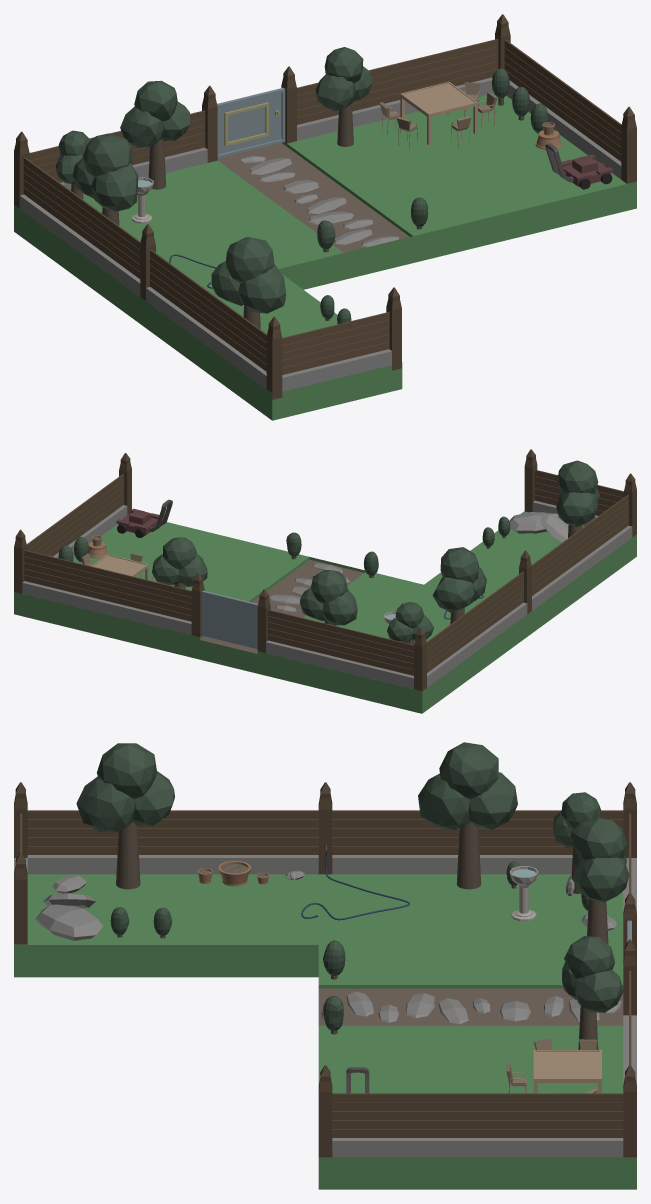
The model's file is Jardin.fbx.
The picture shows the model from 3 angles, top to bottom: view 1: azimuth 30°, elevation 25°; view 2: azimuth 150°, elevation 25°; view 3: azimuth 270°, elevation 25°; orthographic projection. The views are drawn at different scales.
Visible parts, largest first — view 1: Terreno, Tablas1, Tablas4, Tablas6, Tablas3, Arbol5, Tablas5, Arbol3, Arbol2, Puerta, Arbol4, BordeSuelo3 (+17 smaller); view 2: Terreno, Tablas1, Tablas2, Tablas4, Tablas6, Tablas3, Puerta, Arbol2, Arbol5, BordeSuelo1, Arbol3, BordeSuelo2 (+18 smaller); view 3: Terreno, Tablas3, Tablas6, Tablas4, Arbol2, Arbol5, BordeSuelo6, BordeSuelo4, Arbol3, Arbol4, BordeSuelo3, Mesa (+14 smaller).
Boxes of the visible parts, x1=… form: Terreno: x1=14, y1=93, x2=636, y2=420; Tablas1: x1=297, y1=39, x2=498, y2=124; Tablas4: x1=23, y1=157, x2=140, y2=278; Tablas6: x1=150, y1=250, x2=266, y2=371; Tablas3: x1=504, y1=40, x2=621, y2=161; Arbol5: x1=211, y1=237, x2=285, y2=329; Tablas5: x1=282, y1=312, x2=389, y2=374; Arbol3: x1=120, y1=80, x2=189, y2=189; Arbol2: x1=72, y1=133, x2=138, y2=225; Puerta: x1=217, y1=87, x2=285, y2=158; Arbol4: x1=315, y1=47, x2=372, y2=146; BordeSuelo3: x1=19, y1=194, x2=140, y2=296; Terreno: x1=14, y1=511, x2=636, y2=713; Tablas1: x1=24, y1=550, x2=191, y2=621; Tablas2: x1=267, y1=609, x2=413, y2=675; Tablas4: x1=426, y1=571, x2=523, y2=672; Tablas6: x1=531, y1=495, x2=628, y2=595; Tablas3: x1=26, y1=474, x2=123, y2=556; Puerta: x1=201, y1=590, x2=257, y2=648; Arbol2: x1=432, y1=547, x2=486, y2=624; Arbol5: x1=556, y1=460, x2=599, y2=537; BordeSuelo1: x1=22, y1=581, x2=191, y2=634; Arbol3: x1=299, y1=570, x2=357, y2=625; BordeSuelo2: x1=266, y1=640, x2=413, y2=689; Terreno: x1=14, y1=874, x2=636, y2=1189; Tablas3: x1=332, y1=1093, x2=623, y2=1137; Tablas6: x1=27, y1=810, x2=318, y2=854; Tablas4: x1=332, y1=810, x2=623, y2=854; Arbol2: x1=418, y1=742, x2=517, y2=889; Arbol5: x1=76, y1=743, x2=174, y2=889; BordeSuelo6: x1=332, y1=1138, x2=623, y2=1157; BordeSuelo4: x1=27, y1=855, x2=318, y2=874; Arbol3: x1=571, y1=816, x2=629, y2=943; Arbol4: x1=562, y1=936, x2=623, y2=1049; BordeSuelo3: x1=332, y1=855, x2=572, y2=874; Mesa: x1=533, y1=1050, x2=601, y2=1093.
Bounding box in the file's own units: 1510 × 415 × 1366.
